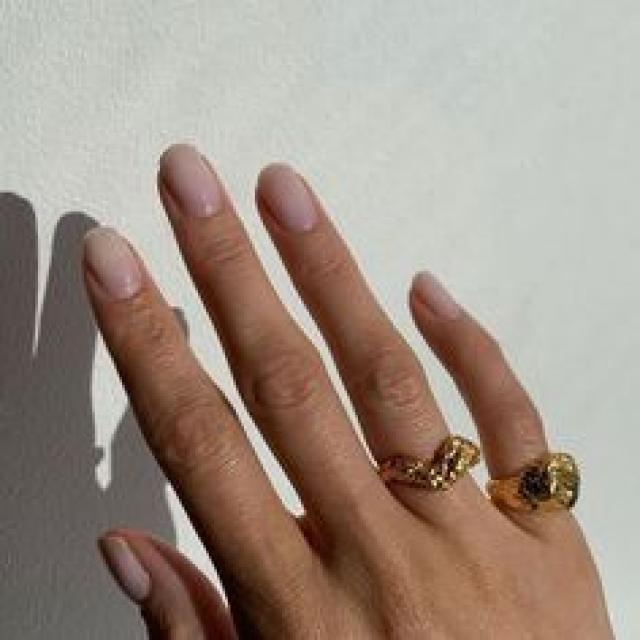Fingernail: (164, 147, 225, 218), (84, 227, 143, 298), (260, 167, 321, 234), (98, 535, 151, 602), (416, 273, 459, 319)
